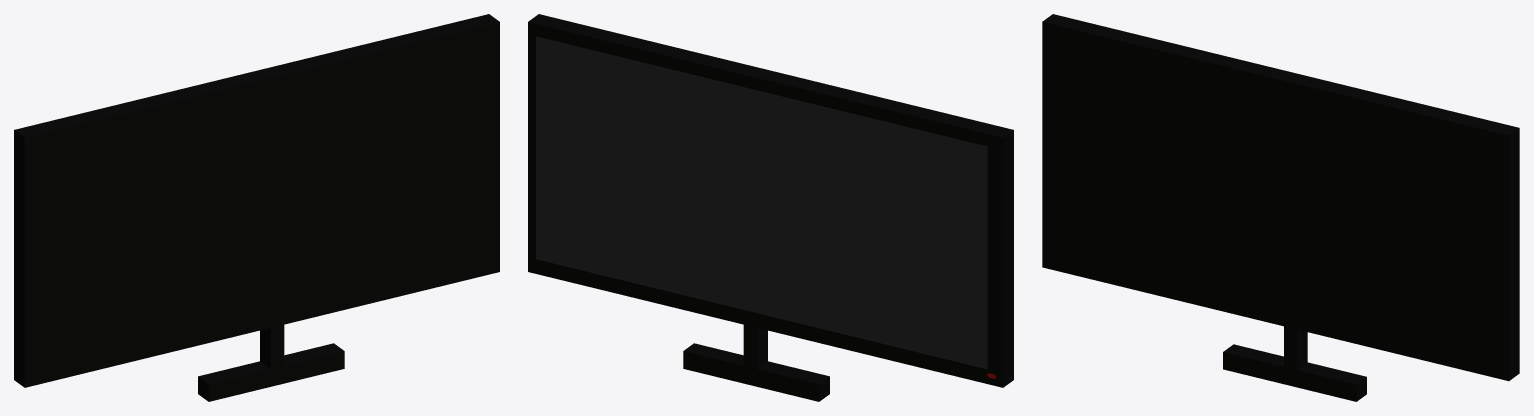
File: televisao.fbx
3 views of the same model, side by side, from view 1: azimuth 30°, elevation 25°; view 2: azimuth 150°, elevation 25°; view 3: azimuth 330°, elevation 25° (orthographic).
Parts seen in each view (by area): view 1: Cube.034; view 2: Cube.034; view 3: Cube.034.
Part boxes in pixels (<box>): Cube.034: <box>14,14,499,401</box>; Cube.034: <box>528,14,1013,401</box>; Cube.034: <box>1042,14,1519,401</box>.
Bounding box in the file's own units: 0.5042 × 0.3134 × 0.0199.
